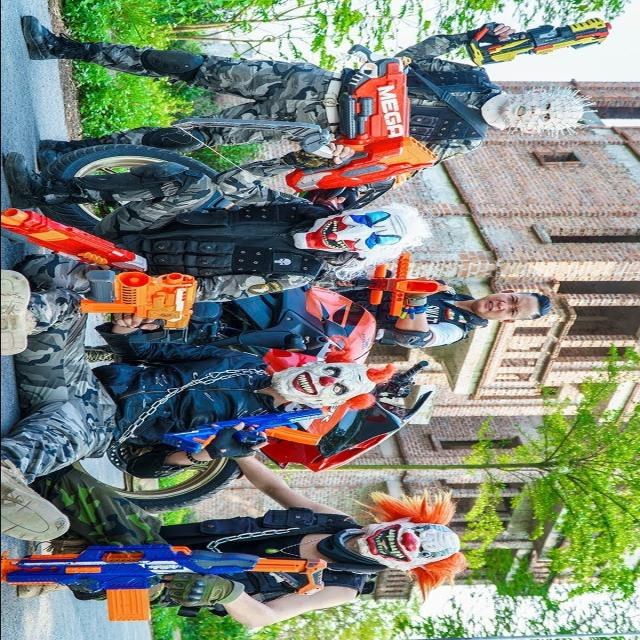Nerf gun: (0, 537, 338, 623), (244, 135, 439, 201), (71, 270, 210, 344), (155, 404, 336, 460), (2, 206, 153, 272), (352, 57, 426, 179), (460, 13, 621, 69), (357, 252, 450, 320)
